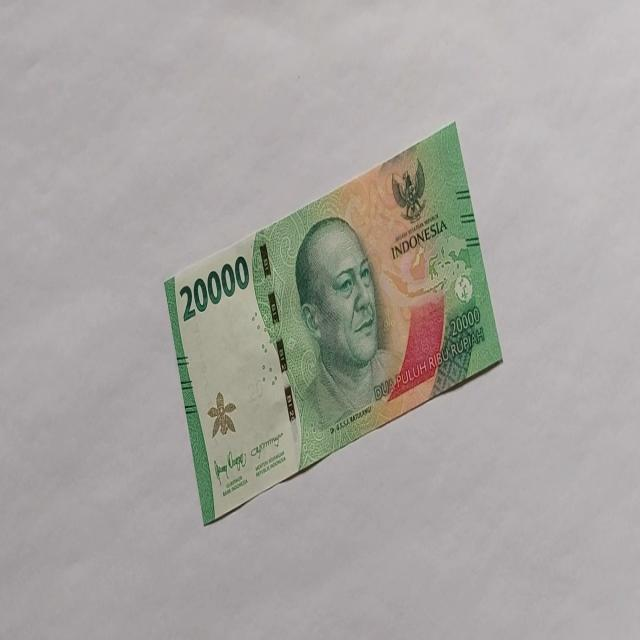dua puluh ribu rupiah: (163, 119, 503, 525), (293, 214, 401, 431)
